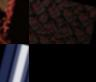crimera: (0, 0, 29, 44)
